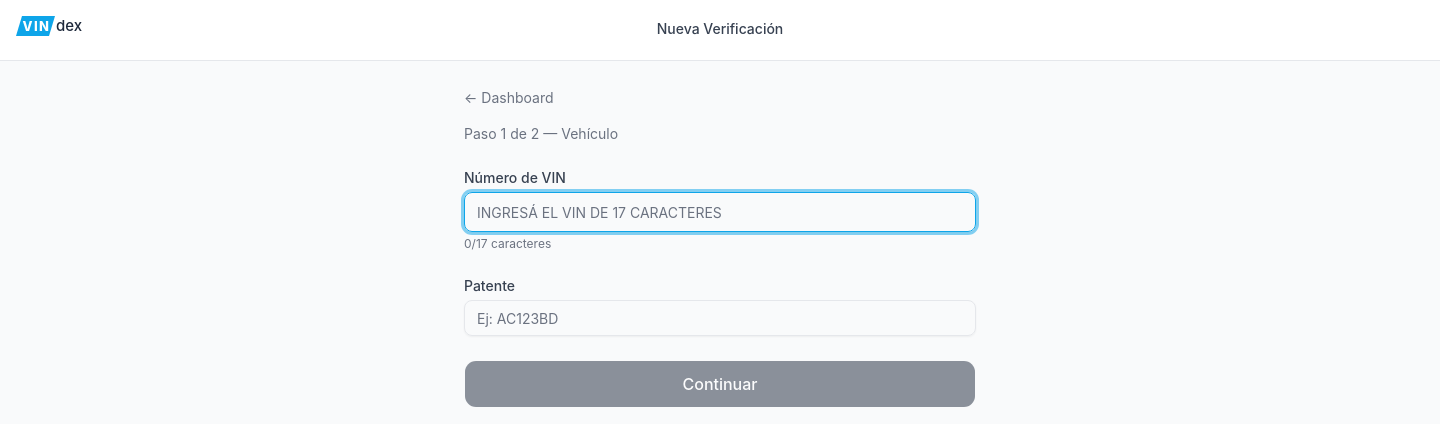
Scenario: InspectPage › shows character counter
The width and height of the screenshot is (1440, 424).
expect the text "0/17 caracteres" is shown: met, box [464,236,551,252]
Type "ABC" into the field labelled "Número de VIN" at (720, 212), box [464,192,976,232]
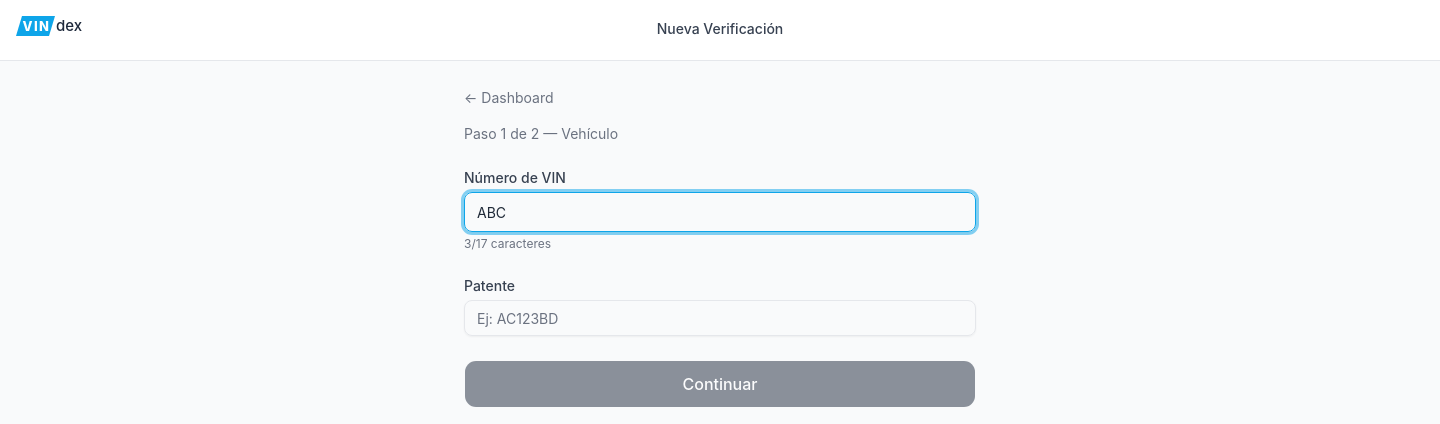
expect the text "3/17 caracteres" is shown: met, box [464,236,551,252]
